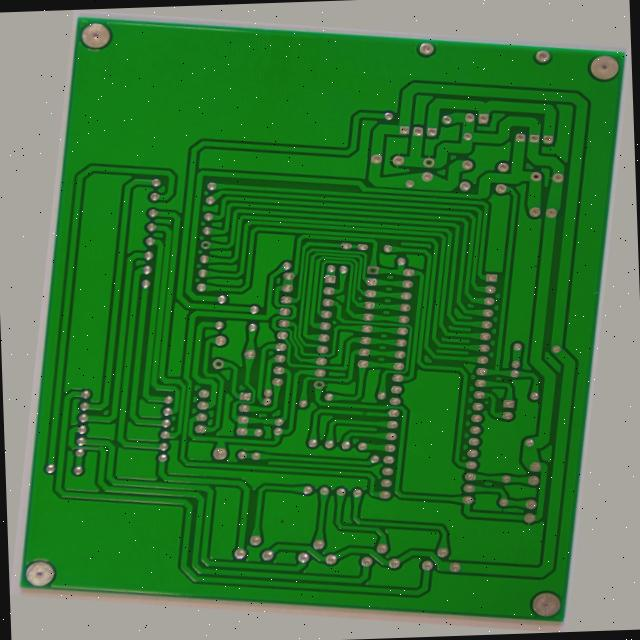missing_hole: (200, 369, 219, 386), (167, 242, 185, 259), (362, 251, 380, 267), (407, 128, 425, 144), (319, 383, 335, 397)
